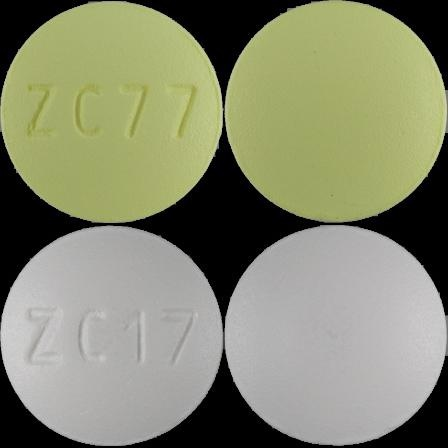49349-289: (0, 0, 224, 224)
